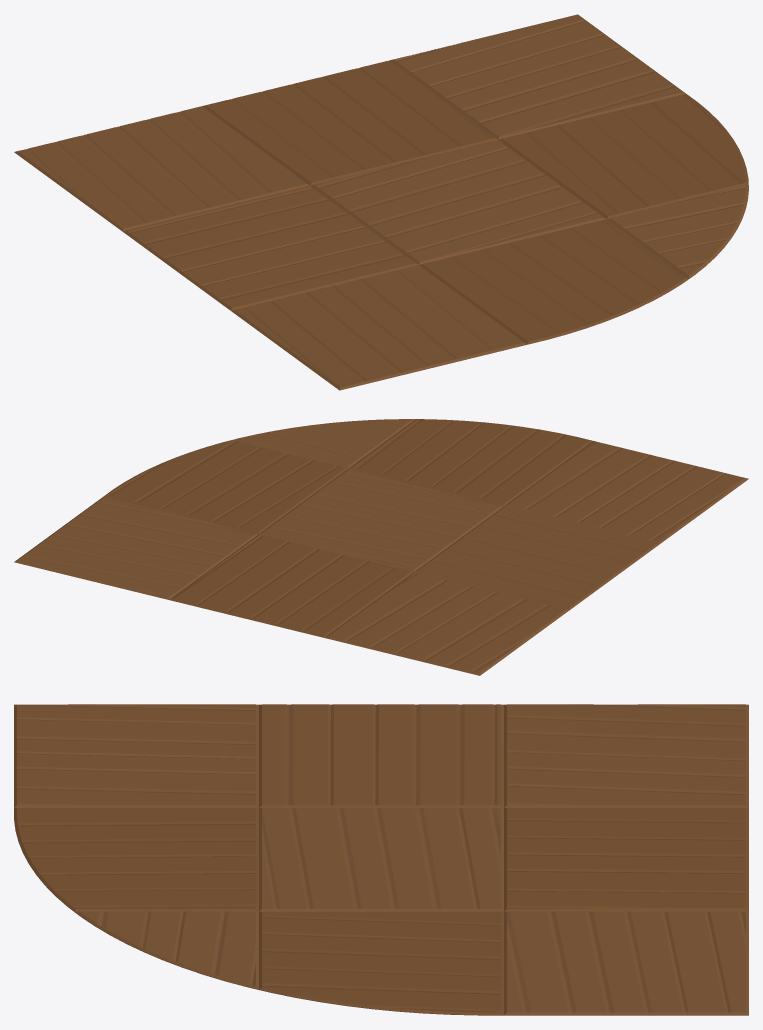
File: Wood_Floor_Module_03_03.glb
3 renders of one model, top to bottom at view 1: azimuth 30°, elevation 25°; view 2: azimuth 150°, elevation 25°; view 3: azimuth 270°, elevation 25°, orthographic. The views are drawn at different scales.
Parts seen in each view (by area): view 1: Wood_Floor_Module_03_03; view 2: Wood_Floor_Module_03_03; view 3: Wood_Floor_Module_03_03.
Part boxes in pixels (bbox=[...]): Wood_Floor_Module_03_03: bbox=[14, 14, 748, 390]; Wood_Floor_Module_03_03: bbox=[14, 419, 748, 675]; Wood_Floor_Module_03_03: bbox=[14, 704, 748, 1015].
Bounding box in the file's own units: 4.74 × 0.012 × 4.74.
